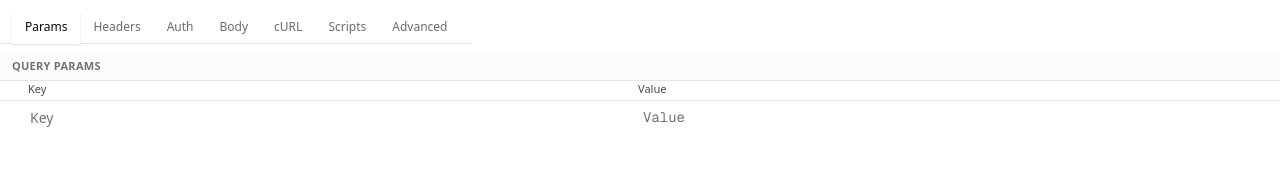
HttpTabs › switching to headers shows header table
Click the tab with test id "request-tab-headers" at x=117, y=28, box [80,12,154,44]
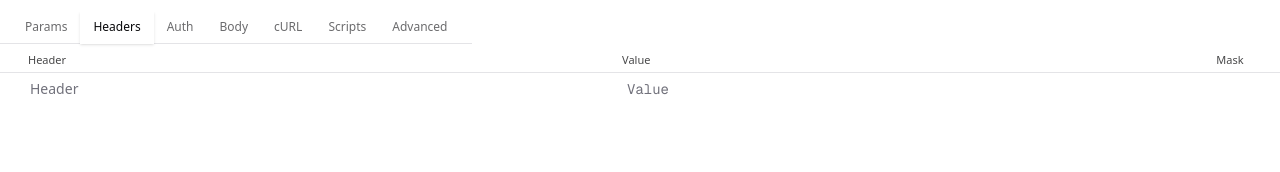
Expected: the text "Value" is shown, [622,52,650,67]
Expected: the text "Header" is shown, [28,52,66,67]
